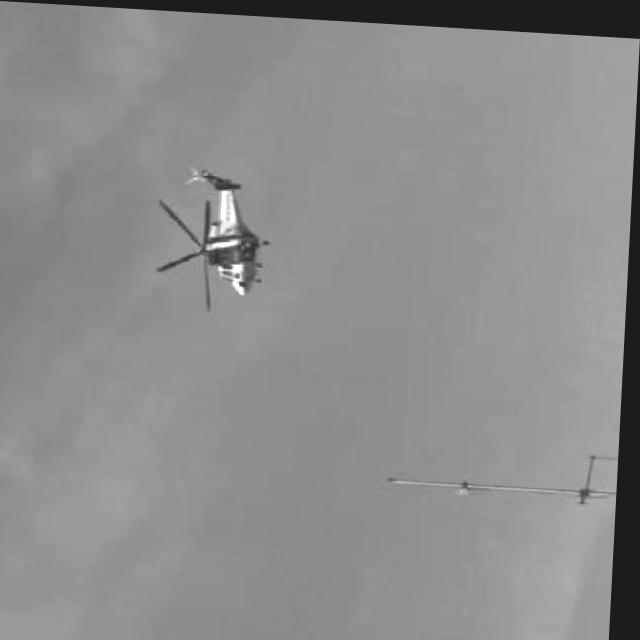helikopter: (157, 163, 275, 312)
